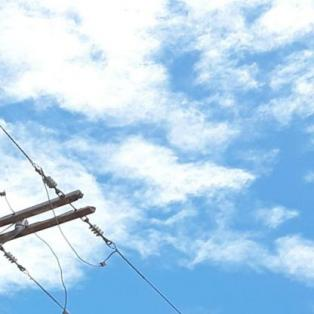Poste: (0, 223, 6, 314)
